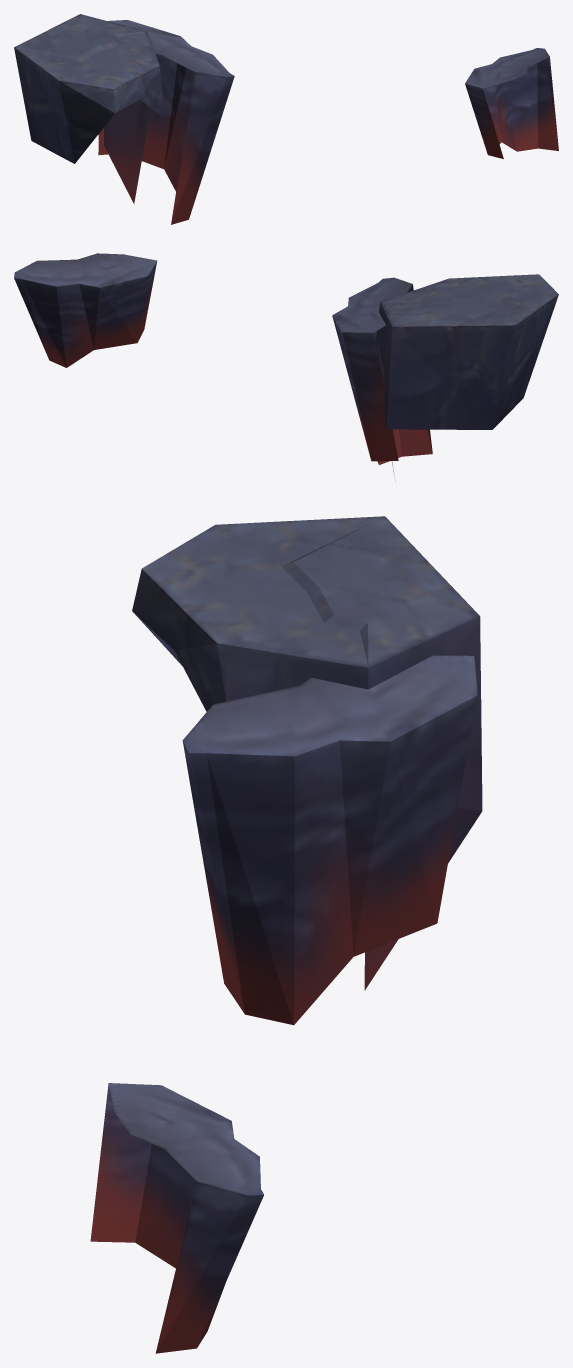
Rendered from Area05_5.fbx.
3 renders of one model, top to bottom at view 1: azimuth 30°, elevation 25°; view 2: azimuth 150°, elevation 25°; view 3: azimuth 270°, elevation 25°, orthographic. The views are drawn at different scales.
Parts seen in each view (by area): view 1: Area05_5; view 2: Area05_5; view 3: Area05_5.
Part boxes in pixels (<box>): Area05_5: <box>14,14,558,224</box>; Area05_5: <box>14,253,558,477</box>; Area05_5: <box>90,516,482,1353</box>.
Bounding box in the file's own units: 5356 × 1895 × 1831.
